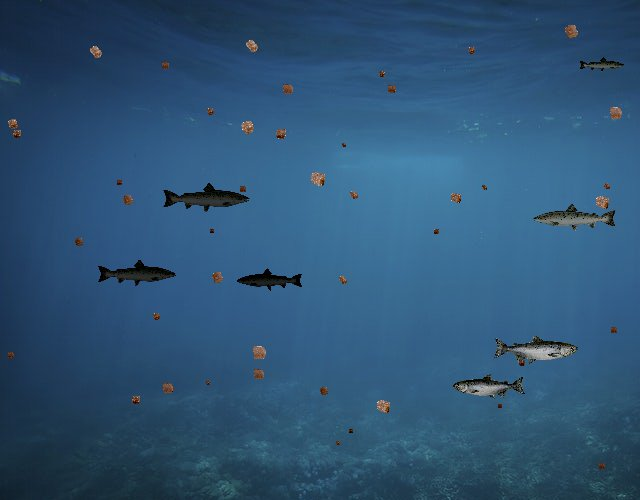Fish: (162, 182, 252, 214), (532, 202, 618, 233), (492, 334, 578, 365), (97, 259, 178, 288), (454, 373, 527, 400), (237, 268, 305, 292), (579, 56, 626, 73)
Pellet: (1, 113, 24, 135), (344, 185, 363, 204), (382, 80, 400, 98), (430, 226, 443, 239), (113, 177, 125, 189), (202, 378, 212, 388)
